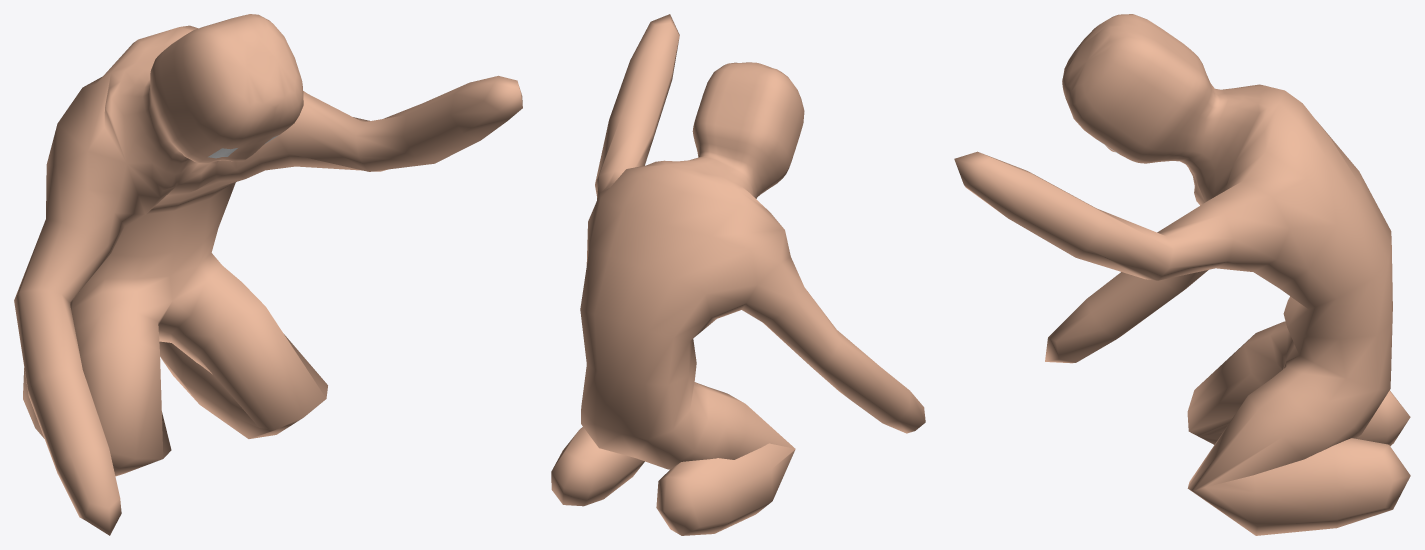
File: Bloc Destructible Cage Humain 3.fbx
3 renders of one model, left to right at view 1: azimuth 30°, elevation 25°; view 2: azimuth 150°, elevation 25°; view 3: azimuth 270°, elevation 25°, orthographic. The views are drawn at different scales.
Visible parts, largest first — view 1: corps; view 2: corps; view 3: corps.
Boxes of the visible parts, x1,y1,x2,y2 form: corps: [14, 14, 522, 535]; corps: [551, 14, 925, 535]; corps: [954, 14, 1410, 535].
Size of the model in its own units: 128 by 151 by 135.
